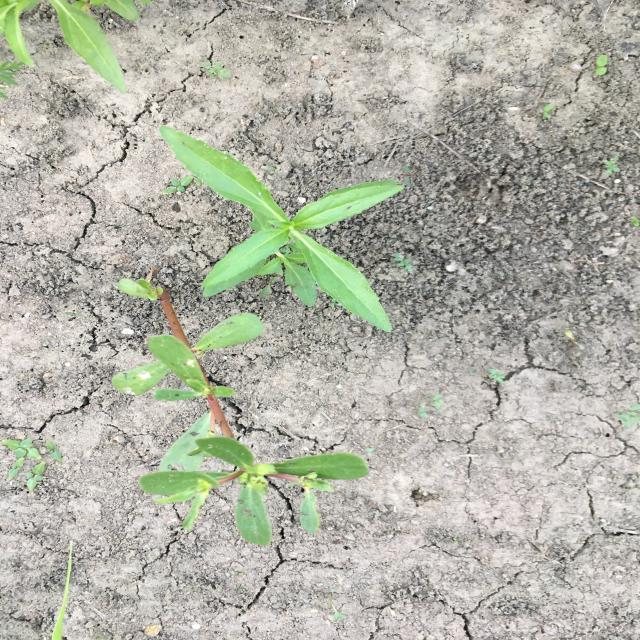Eclipta: (158, 124, 408, 336)
Purslane: (110, 277, 374, 550)
